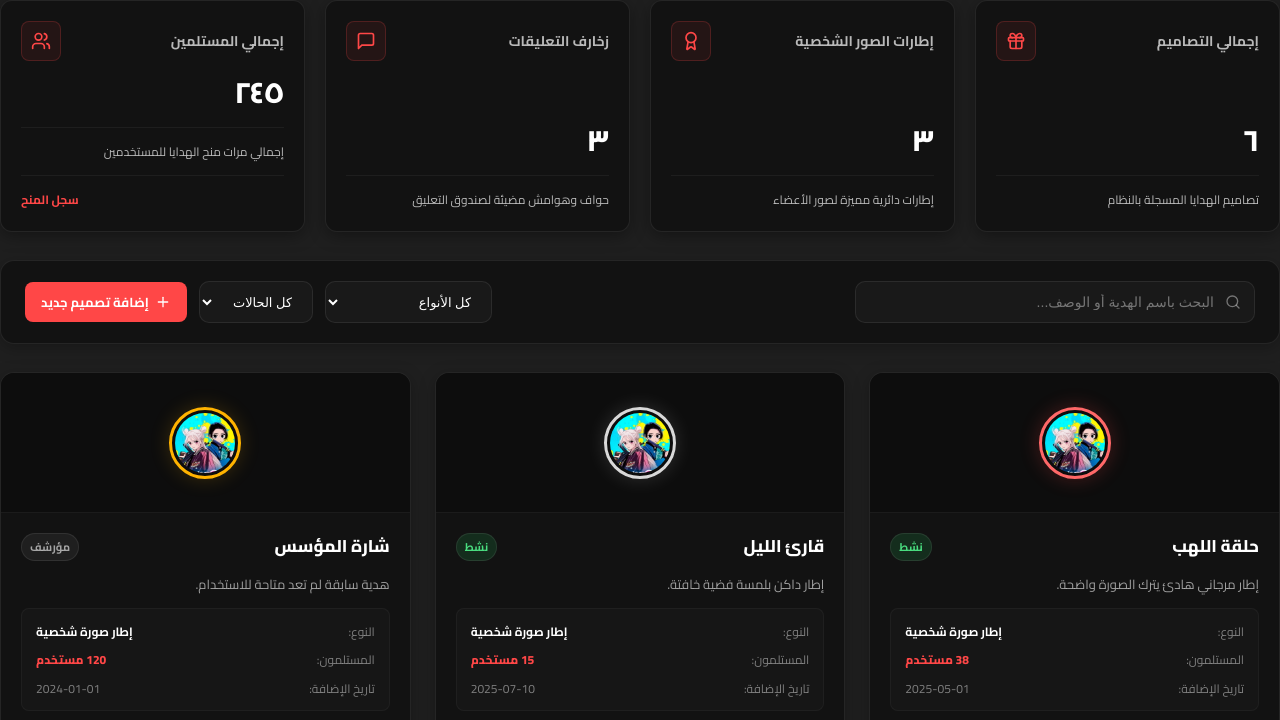
Test case: AdminGifts Component › filters gifts by type
Select "زخارف تعليقات" in the dropdown named "تصفية حسب نوع الهدية" at (409, 302), box [325,281,492,323]
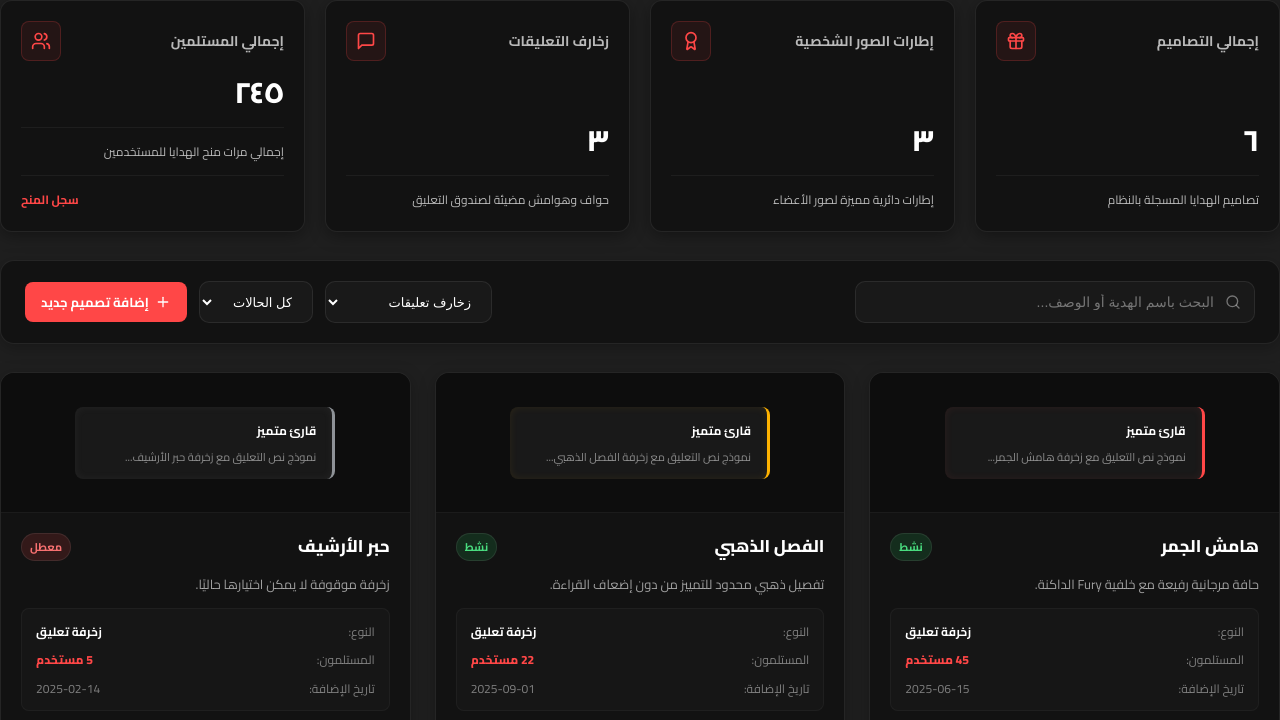
Expected: the heading "الفصل الذهبي" is shown, [714,534,824,560]
Expected: the heading "حلقة اللهب" is gone
